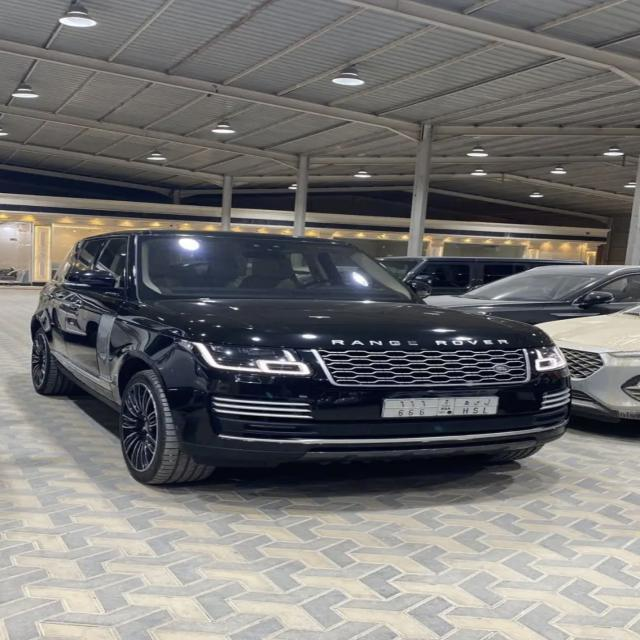license_plate: (383, 394, 503, 420)
